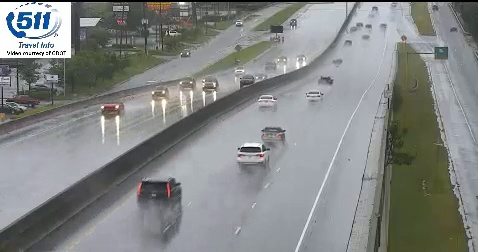car: (137, 177, 182, 207), (237, 143, 268, 165), (262, 127, 284, 143), (259, 95, 276, 108), (305, 91, 322, 101)
